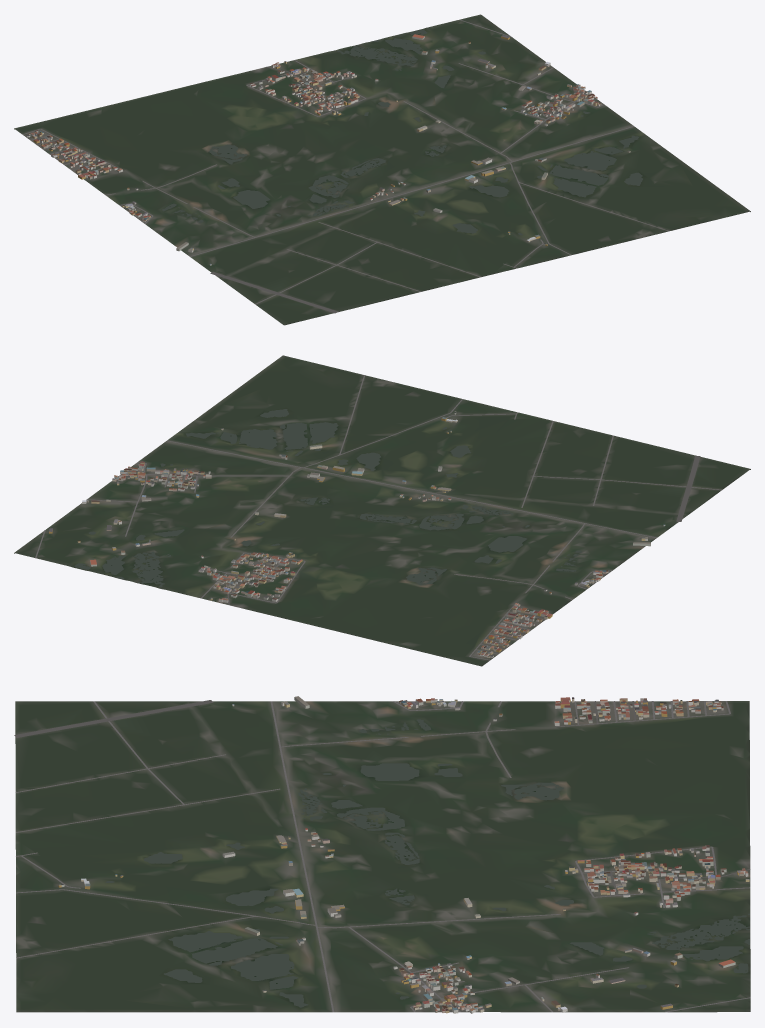
The picture shows the model from 3 angles, top to bottom: view 1: azimuth 30°, elevation 25°; view 2: azimuth 150°, elevation 25°; view 3: azimuth 270°, elevation 25°; orthographic projection. The views are drawn at different scales.
Parts seen in each view (by area): view 1: ground, water, buildings, roads; view 2: ground, water, buildings, roads; view 3: ground, water, buildings, roads.
Part boxes in pixels (bbox=[...]): ground: bbox=[14, 14, 750, 325]; water: bbox=[162, 30, 642, 235]; buildings: bbox=[26, 34, 630, 265]; roads: bbox=[22, 19, 669, 313]; ground: bbox=[14, 355, 750, 666]; water: bbox=[74, 409, 582, 588]; buildings: bbox=[49, 411, 665, 657]; roads: bbox=[35, 375, 721, 660]; ground: bbox=[15, 701, 750, 1012]; water: bbox=[105, 719, 749, 1007]; buildings: bbox=[58, 696, 749, 1013]; roads: bbox=[14, 700, 750, 1012].
Bounding box in the file's own units: 1420 × 13.9 × 1407.
